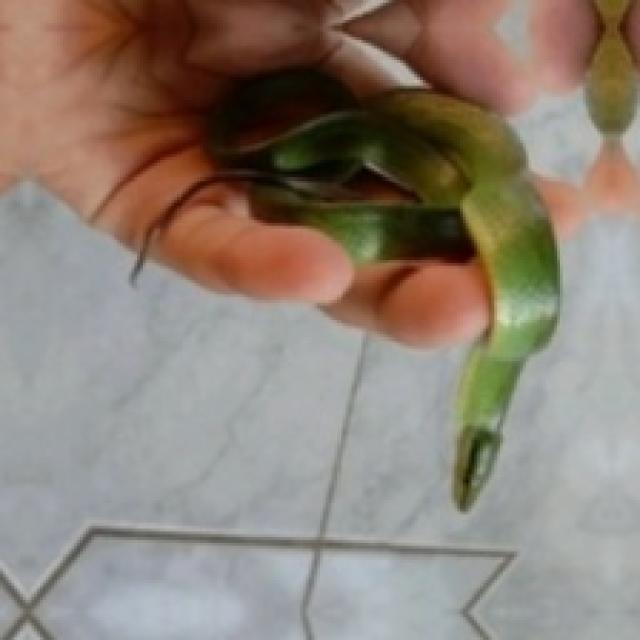red-tailed green ratsnake: (140, 69, 557, 509), (206, 69, 557, 509)
